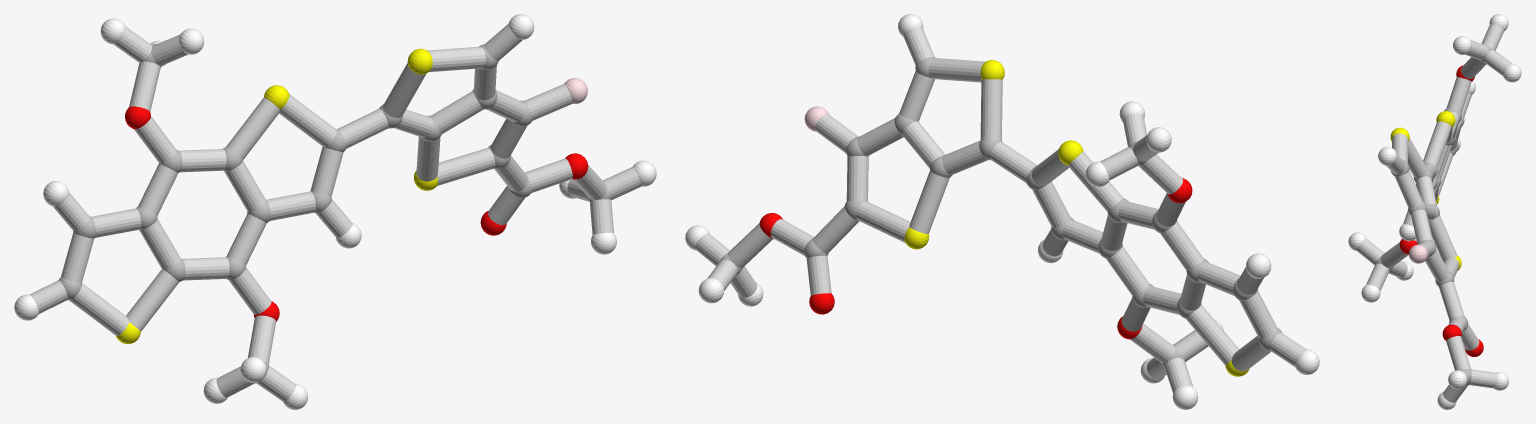
The model's file is Dimethoxy_Benzodithiophene_Phi_5_Theta_220_Methylcarbonyl_3_Fluoro_Thienothiophene.glb.
3 views of the same model, side by side, from view 1: azimuth 30°, elevation 25°; view 2: azimuth 150°, elevation 25°; view 3: azimuth 270°, elevation 25° (orthographic). The views are drawn at different scales.
Parts seen in each view (by area): view 1: grp15205, grp8689, grp1, grp7241, grp13395; view 2: grp15205, grp8689, grp1, grp7241, grp13395; view 3: grp15205, grp8689, grp1, grp13395, grp7241, grp14843.
Boxes of the visible parts, left/top/right/bottom form: grp15205: left=29, top=24, right=641, bottom=401; grp8689: left=14, top=14, right=656, bottom=409; grp1: left=58, top=44, right=610, bottom=383; grp7241: left=116, top=48, right=437, bottom=343; grp13395: left=125, top=106, right=588, bottom=321; grp15205: left=695, top=28, right=1306, bottom=393; grp8689: left=685, top=14, right=1319, bottom=409; grp1: left=720, top=57, right=1282, bottom=367; grp7241: left=904, top=60, right=1249, bottom=376; grp13395: left=759, top=178, right=1192, bottom=339; grp15205: left=1356, top=23, right=1511, bottom=402; grp8689: left=1348, top=14, right=1521, bottom=409; grp1: left=1375, top=45, right=1493, bottom=385; grp13395: left=1399, top=65, right=1483, bottom=356; grp7241: left=1390, top=111, right=1461, bottom=270; grp14843: left=1409, top=244, right=1427, bottom=263.
Size of the model in its own units: 16.98 by 8.77 by 5.43.
